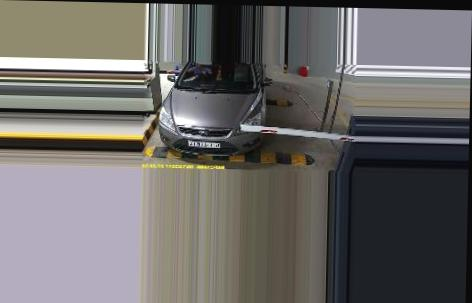License_Plate: (186, 139, 222, 150)
